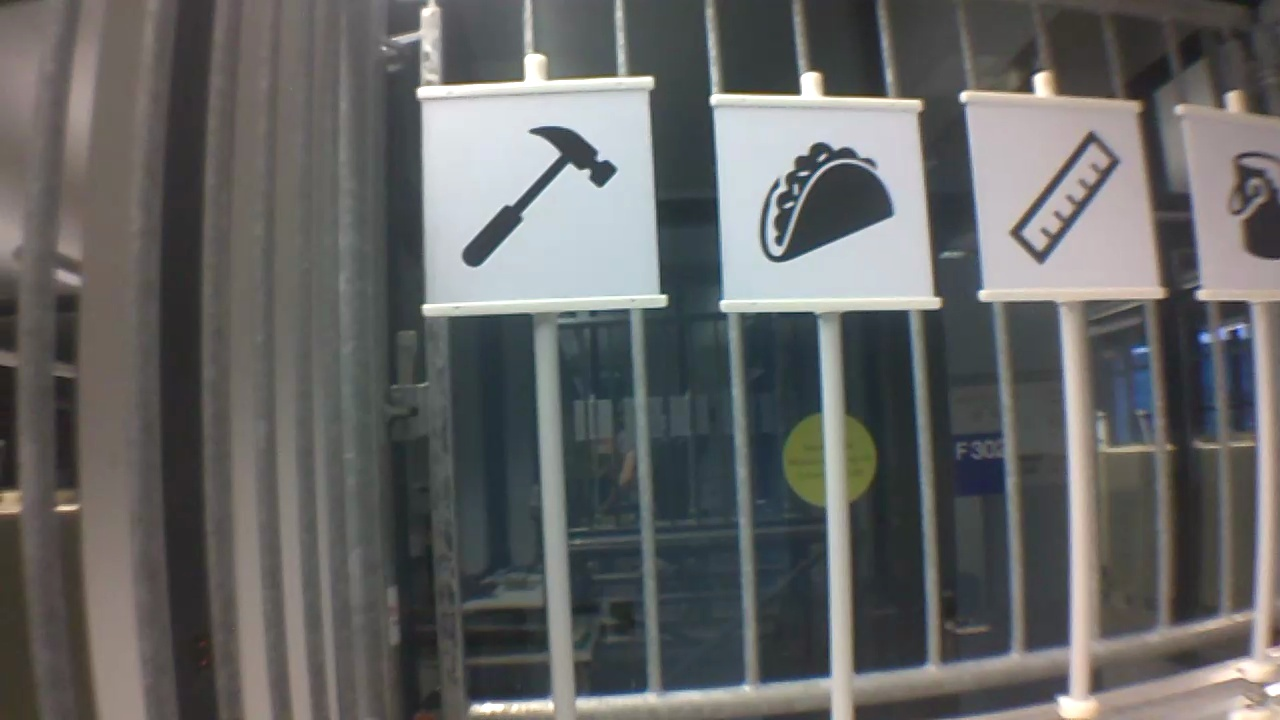bucket: (1220, 144, 1280, 264)
hammer: (451, 121, 623, 270)
ruler: (997, 124, 1127, 269)
taco: (754, 135, 900, 266)
